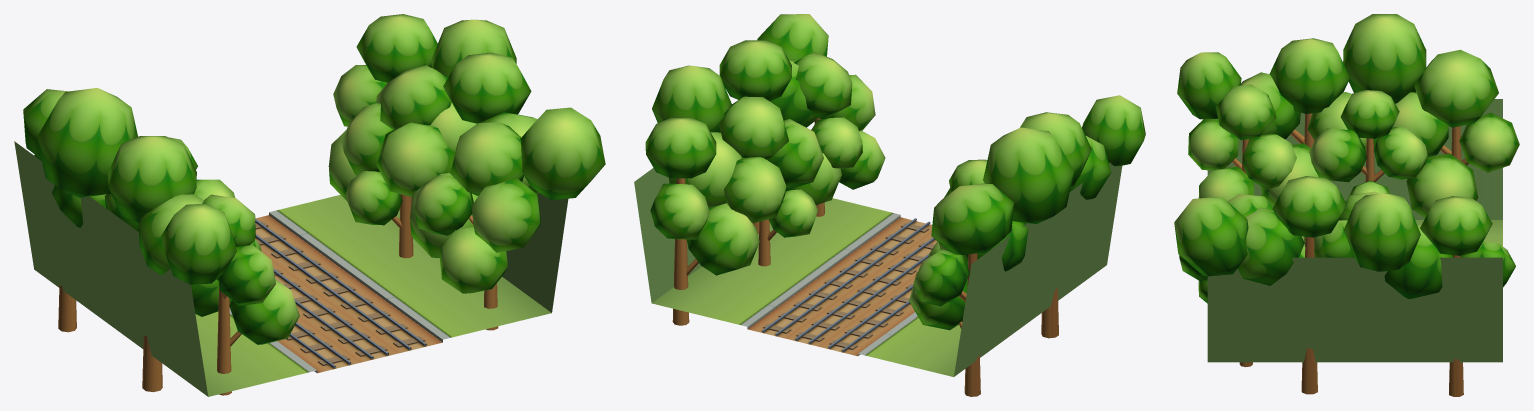
File: Road04.FBX
The picture shows the model from 3 angles, left to right: view 1: azimuth 30°, elevation 25°; view 2: azimuth 150°, elevation 25°; view 3: azimuth 270°, elevation 25°; orthographic projection. The views are drawn at different scales.
Parts seen in each view (by area): view 1: Tree, Side, Rail; view 2: Tree, Side, Rail; view 3: Tree, Side.
Part boxes in pixels (box(x1,y1,x2,y2)): Tree: box(23, 14, 605, 395); Side: box(14, 141, 568, 396); Rail: box(255, 215, 442, 373); Tree: box(645, 14, 1145, 396); Side: box(634, 162, 1122, 376); Rail: box(748, 217, 937, 356); Tree: box(1174, 14, 1519, 396); Side: box(1207, 99, 1502, 362).
Size of the model in its own units: 2470 by 1392 by 1873.
